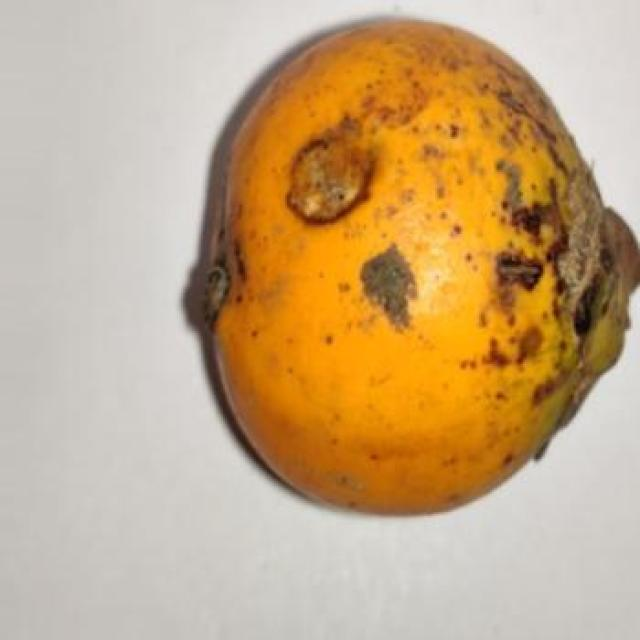good: (211, 21, 638, 524)
